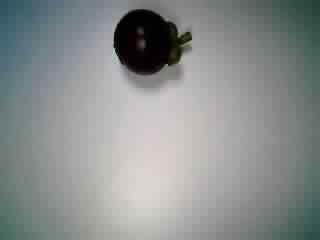mangosteen: (107, 3, 194, 77)
